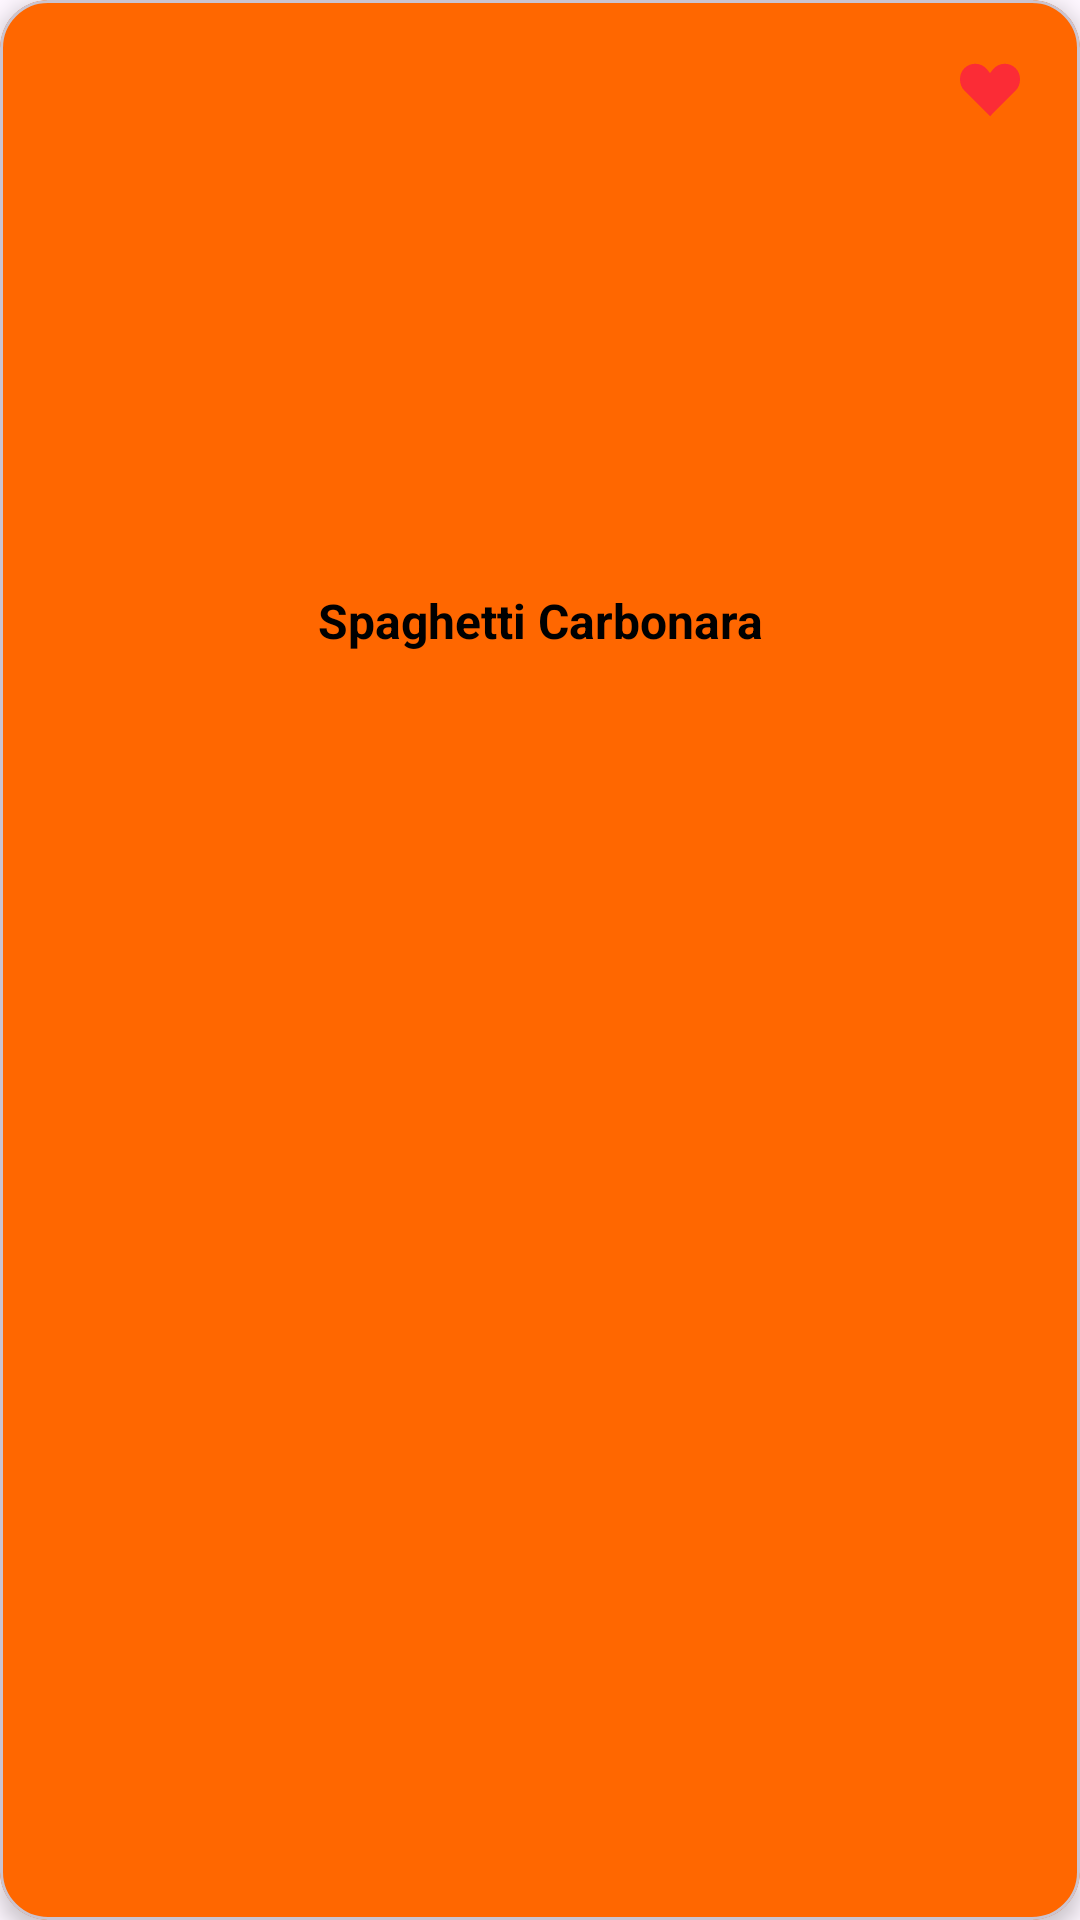

Where icons sit on this 1080px×1920px app screen, as [x1, y1, x2, y2]:
heart: [960, 64, 1020, 116]
